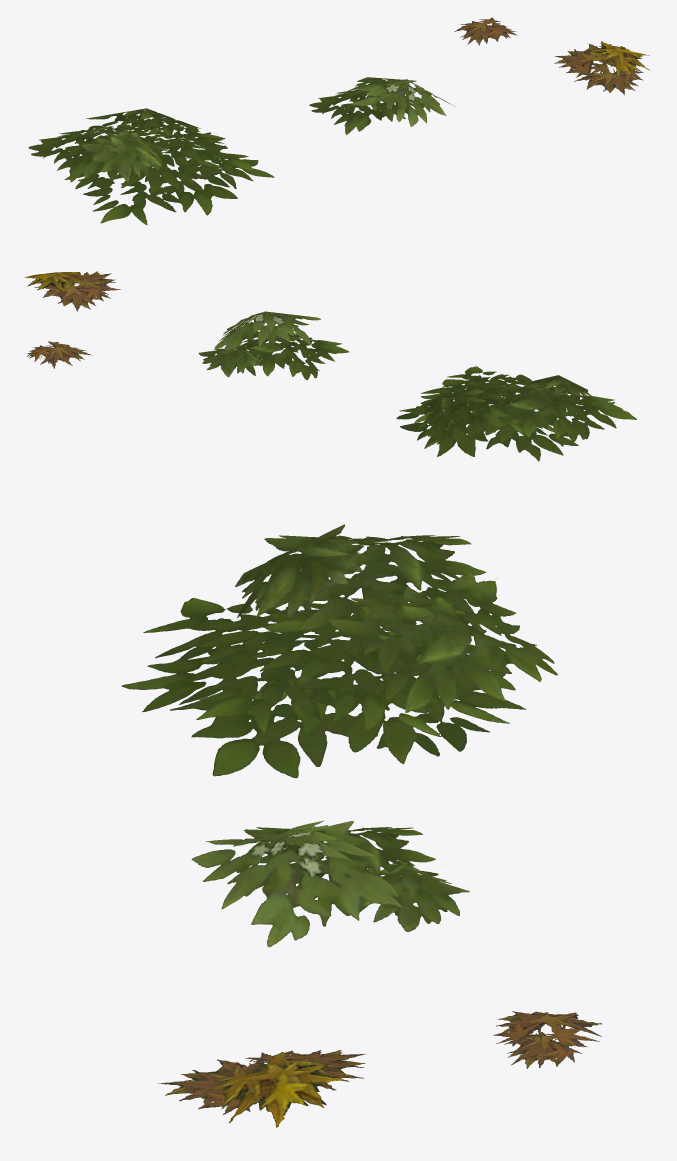
File: f_1000_foliage01.FBX
3 renders of one model, top to bottom at view 1: azimuth 30°, elevation 25°; view 2: azimuth 150°, elevation 25°; view 3: azimuth 270°, elevation 25°, orthographic. The views are drawn at different scales.
Parts seen in each view (by area): view 1: d_1012_Tree01, d_1012_Tree02, d_1012_Tree03; view 2: d_1012_Tree01, d_1012_Tree02, d_1012_Tree03; view 3: d_1012_Tree01, d_1012_Tree02, d_1012_Tree03.
Boxes of the visible parts, <box> form: d_1012_Tree01: <box>28,108,274,224</box>; d_1012_Tree02: <box>309,77,455,134</box>; d_1012_Tree03: <box>454,17,649,94</box>; d_1012_Tree01: <box>396,366,636,461</box>; d_1012_Tree02: <box>198,311,349,380</box>; d_1012_Tree03: <box>24,271,120,368</box>; d_1012_Tree01: <box>122,524,557,778</box>; d_1012_Tree02: <box>191,820,469,947</box>; d_1012_Tree03: <box>158,1011,601,1127</box>.
Bounding box in the file's own units: 1438 × 116 × 563.
Materials: 1 (1 with a texture image).
